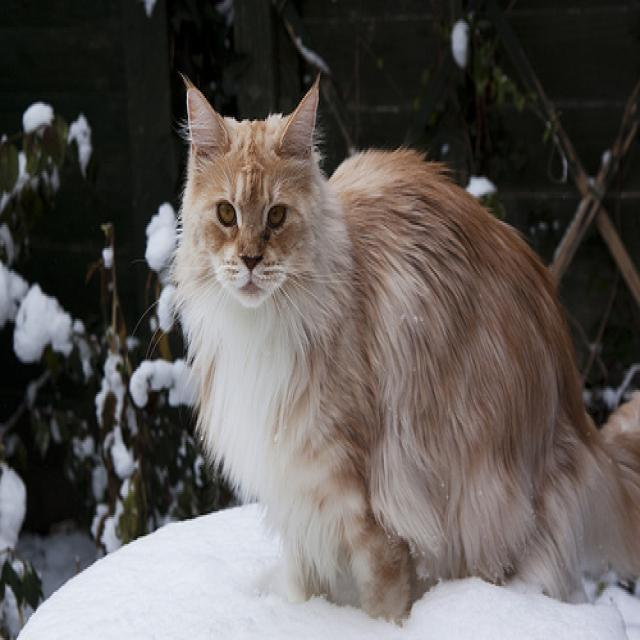Maine_Coon: (172, 66, 324, 308)
